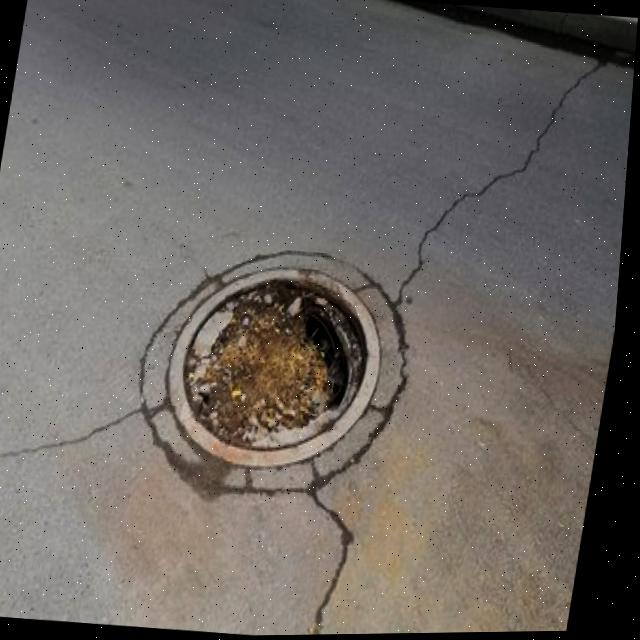manhole: (141, 240, 412, 491)
